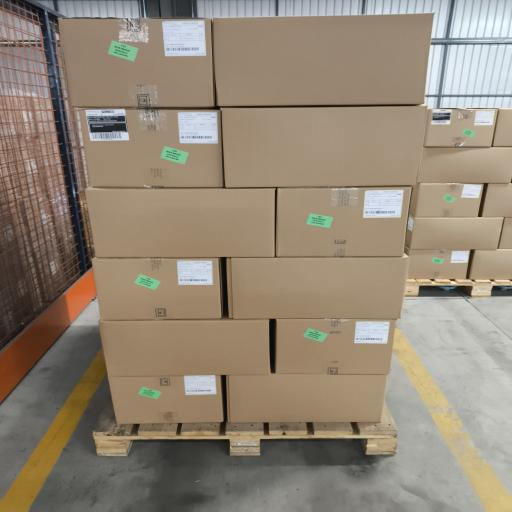pallet: (93, 401, 397, 456), (405, 279, 511, 297)
